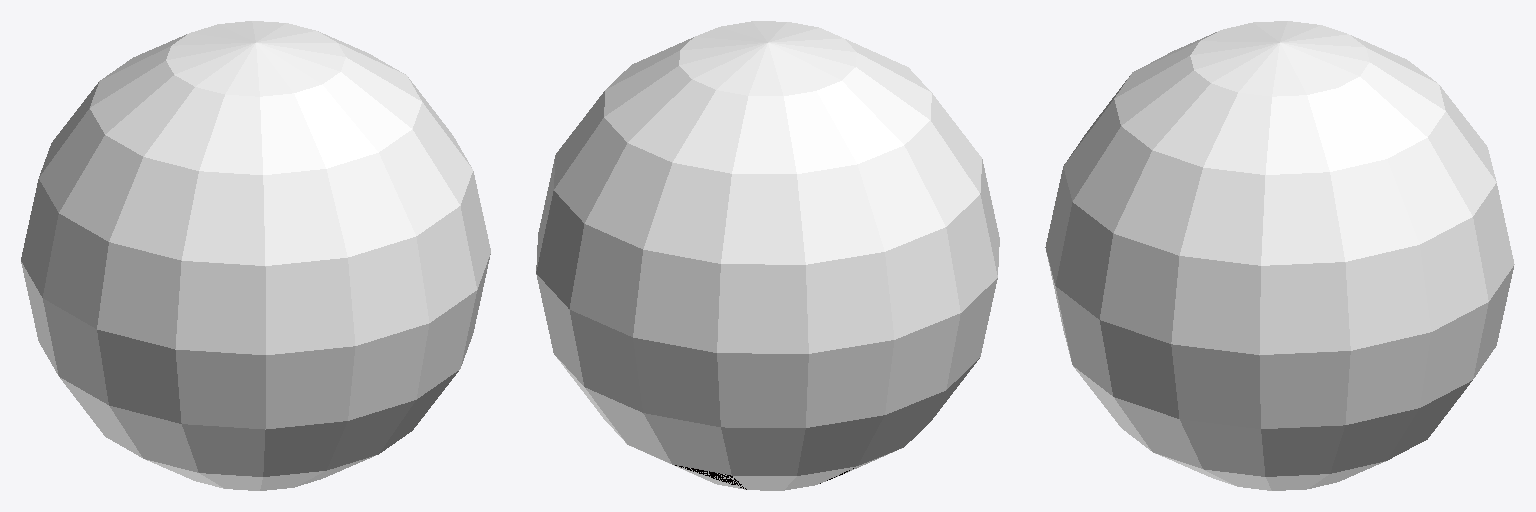
File: cake.obj
The picture shows the model from 3 angles: view 1: azimuth 30°, elevation 25°; view 2: azimuth 150°, elevation 25°; view 3: azimuth 270°, elevation 25°; orthographic projection.
Visible parts, largest first — view 1: Sphere001; view 2: Sphere001; view 3: Sphere001.
Boxes of the visible parts, <box> form: Sphere001: <box>21,21,490,490</box>; Sphere001: <box>536,21,999,490</box>; Sphere001: <box>1045,21,1514,490</box>.
Size of the model in its own units: 19175 by 19248 by 19175.